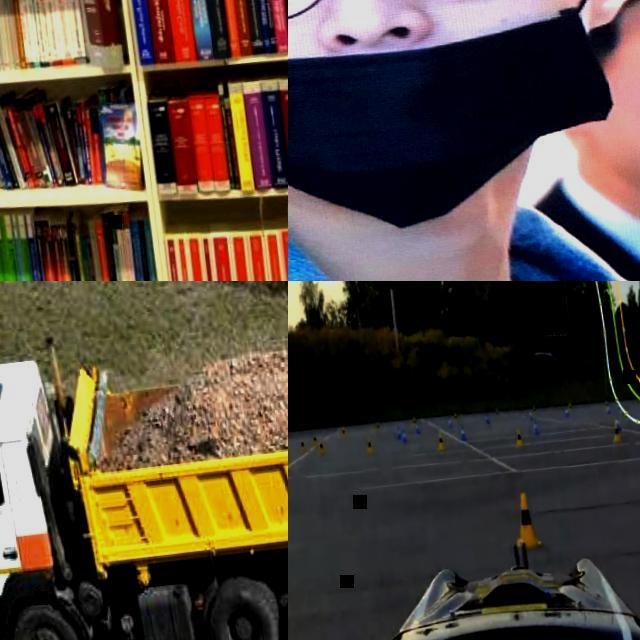machinery: (0, 304, 288, 640)
mask: (288, 0, 640, 259)
no_mask: (577, 69, 640, 227)
no_vest: (288, 216, 640, 281)
person: (288, 0, 640, 281), (474, 0, 640, 281)
safety_cone: (506, 486, 543, 548), (611, 418, 624, 444), (513, 424, 525, 449), (436, 428, 448, 451), (365, 436, 376, 458), (298, 437, 309, 459), (310, 432, 320, 454), (530, 416, 540, 438), (458, 422, 468, 444), (402, 428, 412, 450), (318, 437, 328, 458)
vehicle: (288, 504, 640, 640)
